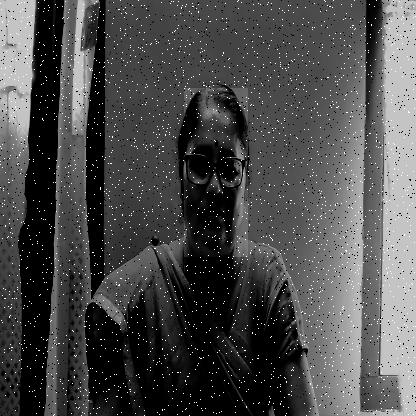Normal: (184, 88, 248, 257)
